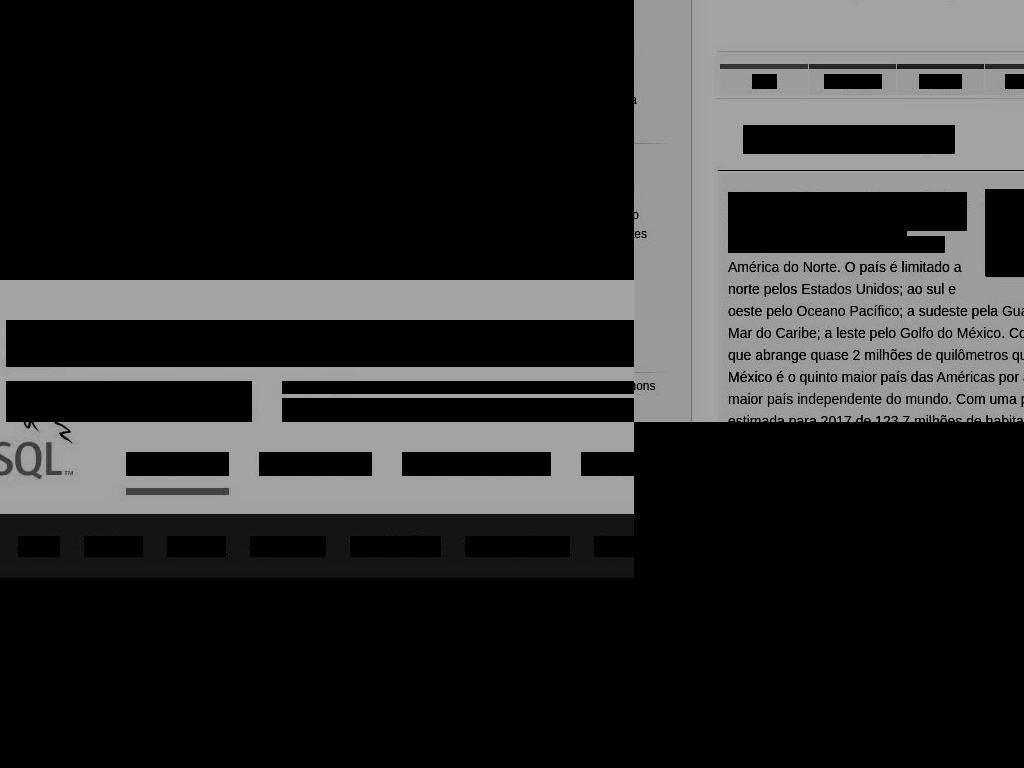button: (6, 0, 401, 236), (416, 75, 634, 241), (416, 0, 634, 61), (6, 381, 252, 422), (634, 634, 809, 686), (282, 381, 634, 394), (402, 452, 551, 476), (259, 452, 372, 476), (126, 452, 229, 476), (581, 452, 634, 476), (18, 113, 84, 126), (428, 148, 494, 161)
heading: (18, 130, 389, 223), (634, 450, 1023, 537), (6, 320, 634, 367), (428, 165, 634, 228), (634, 558, 1024, 590), (428, 0, 634, 49), (634, 126, 674, 141), (634, 355, 674, 370)
image: (634, 422, 1024, 768), (6, 0, 401, 236), (416, 75, 634, 241), (416, 0, 634, 61), (6, 381, 252, 422), (985, 189, 1024, 276)
link: (728, 368, 1024, 407), (728, 214, 907, 253), (465, 536, 570, 557), (350, 536, 441, 557), (728, 258, 837, 275), (796, 302, 899, 319), (899, 324, 1001, 341), (801, 280, 900, 297), (250, 536, 326, 557), (728, 324, 817, 341), (935, 346, 1024, 363), (84, 536, 143, 557), (167, 536, 226, 557), (936, 368, 995, 385), (18, 536, 60, 557), (594, 536, 634, 557), (728, 192, 775, 209), (816, 236, 860, 253), (1001, 302, 1024, 319), (634, 379, 657, 394)
text: (0, 578, 634, 768), (728, 324, 1024, 363), (728, 346, 1024, 385), (728, 390, 1024, 422), (728, 192, 967, 231), (728, 258, 961, 297), (728, 280, 956, 319), (743, 125, 955, 154), (899, 302, 1003, 319), (775, 192, 863, 209), (859, 236, 945, 253), (816, 324, 900, 341), (824, 74, 882, 89), (799, 214, 850, 231), (919, 74, 962, 89), (994, 368, 1024, 385), (752, 74, 777, 89), (1005, 74, 1024, 89)
